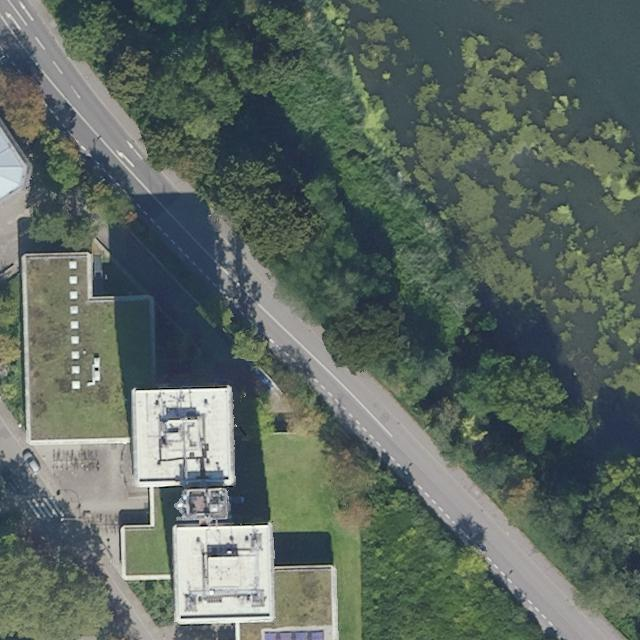PV: (262, 628, 325, 639)
